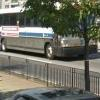Bus: (2, 5, 72, 57)
